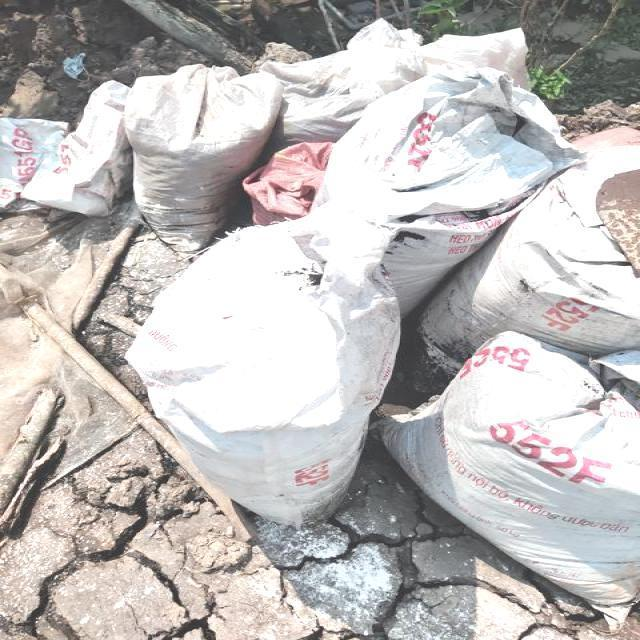gunny_bag: (125, 200, 400, 526), (384, 332, 640, 624), (316, 67, 581, 312), (423, 146, 640, 358), (124, 64, 283, 252)
